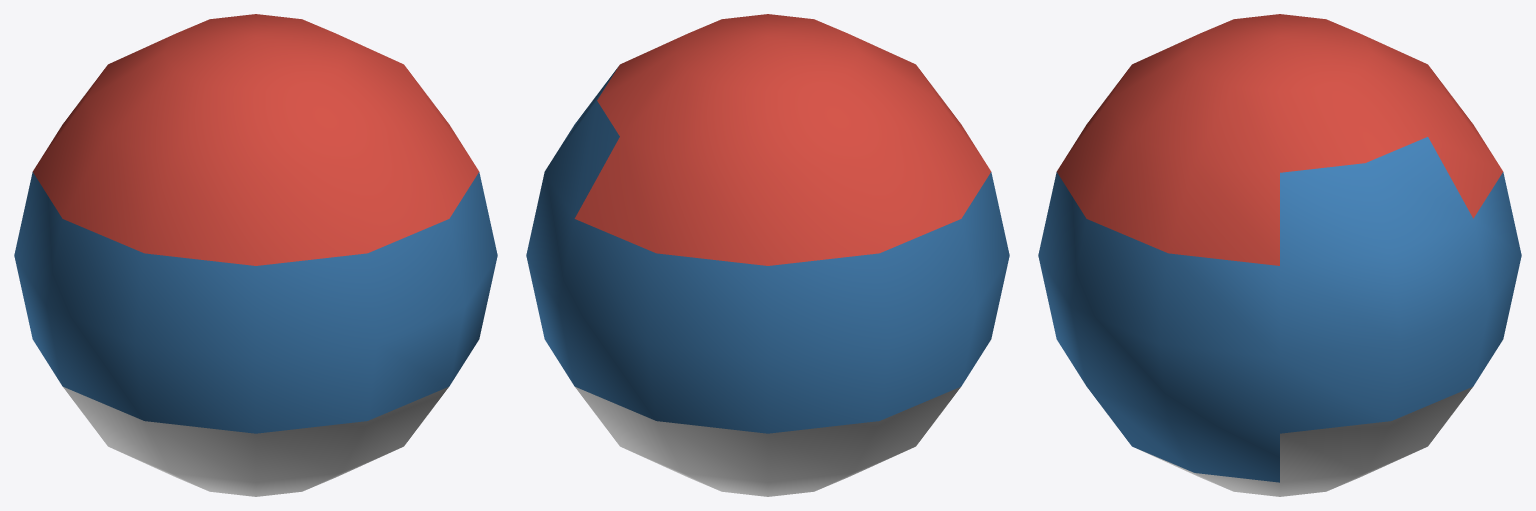
File: categorical-missing.glb
3 views of the same model, side by side, from view 1: azimuth 30°, elevation 25°; view 2: azimuth 150°, elevation 25°; view 3: azimuth 270°, elevation 25° (orthographic).
Visible parts, largest first — view 1: atlas.frontal, atlas.parietal, atlas.missing; view 2: atlas.parietal, atlas.frontal, atlas.missing; view 3: atlas.parietal, atlas.frontal, atlas.missing.
Boxes of the visible parts, x1=… form: atlas.frontal: x1=32, y1=14, x2=479, y2=265; atlas.parietal: x1=14, y1=172, x2=497, y2=433; atlas.missing: x1=63, y1=387, x2=448, y2=496; atlas.parietal: x1=526, y1=66, x2=1009, y2=433; atlas.frontal: x1=574, y1=14, x2=991, y2=265; atlas.missing: x1=575, y1=387, x2=960, y2=496; atlas.parietal: x1=1038, y1=137, x2=1521, y2=482; atlas.frontal: x1=1056, y1=14, x2=1503, y2=265; atlas.missing: x1=1134, y1=387, x2=1472, y2=496.
Bounding box in the file's own units: 2 × 2 × 2.
